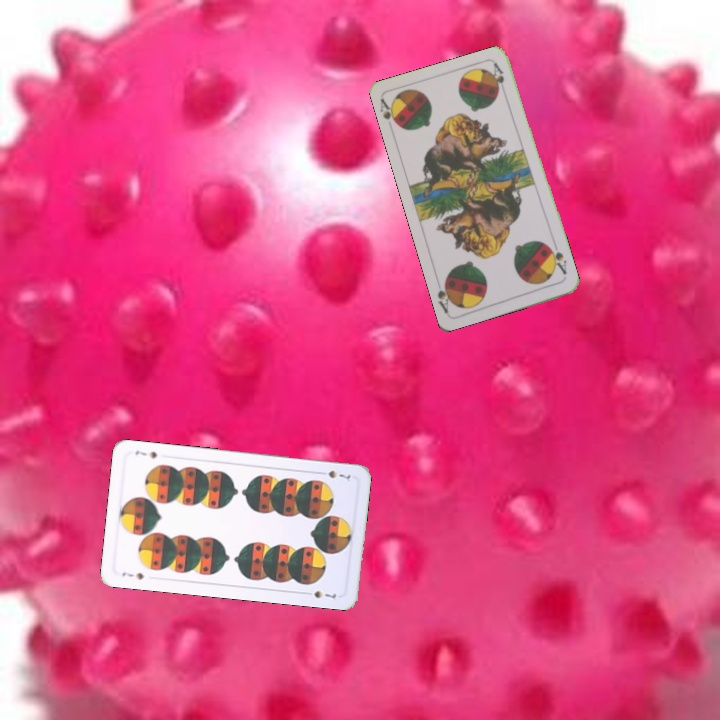S7: (315, 466, 353, 481), (118, 568, 147, 582)
SA: (376, 95, 403, 131), (544, 240, 570, 277)
